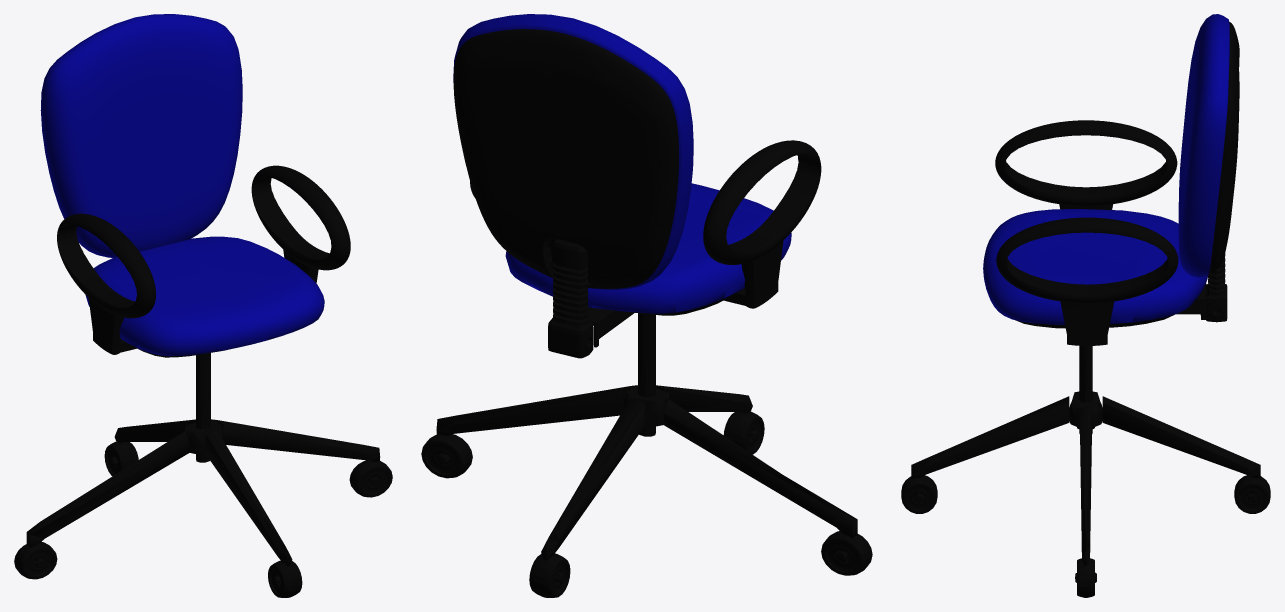
File: Chair.fbx
3 views of the same model, side by side, from view 1: azimuth 30°, elevation 25°; view 2: azimuth 150°, elevation 25°; view 3: azimuth 270°, elevation 25° (orthographic). The views are drawn at different scales.
Visible parts, largest first — view 1: chair:Box002, chair:Box001, chair:Object003, Torus.001, Torus; view 2: chair:Object002, chair:Object003, chair:Box001, Torus.001, chair:Box002, chair:Object007, chair:Box003; view 3: chair:Box001, chair:Object003, chair:Box002, Torus, Torus.001, chair:Object002, chair:Object007.
Boxes of the visible parts, x1=… form: chair:Box002: x1=40, y1=14, x2=242, y2=257; chair:Box001: x1=85, y1=236, x2=324, y2=356; chair:Object003: x1=14, y1=353, x2=392, y2=597; Torus.001: x1=57, y1=213, x2=155, y2=354; Torus: x1=251, y1=165, x2=350, y2=283; chair:Object002: x1=453, y1=29, x2=678, y2=288; chair:Object003: x1=421, y1=313, x2=872, y2=597; chair:Box001: x1=505, y1=183, x2=791, y2=313; Torus.001: x1=703, y1=140, x2=821, y2=308; chair:Box002: x1=453, y1=14, x2=693, y2=289; chair:Object007: x1=548, y1=239, x2=593, y2=358; chair:Box003: x1=588, y1=307, x2=634, y2=347; chair:Box001: x1=983, y1=209, x2=1207, y2=325; chair:Object003: x1=901, y1=346, x2=1270, y2=597; chair:Box002: x1=1178, y1=14, x2=1229, y2=277; Torus: x1=996, y1=217, x2=1178, y2=345; Torus.001: x1=995, y1=120, x2=1177, y2=209; chair:Object002: x1=1209, y1=22, x2=1239, y2=273; chair:Object007: x1=1206, y1=253, x2=1227, y2=322.
Size of the model in its own units: 230 by 279 by 194.
